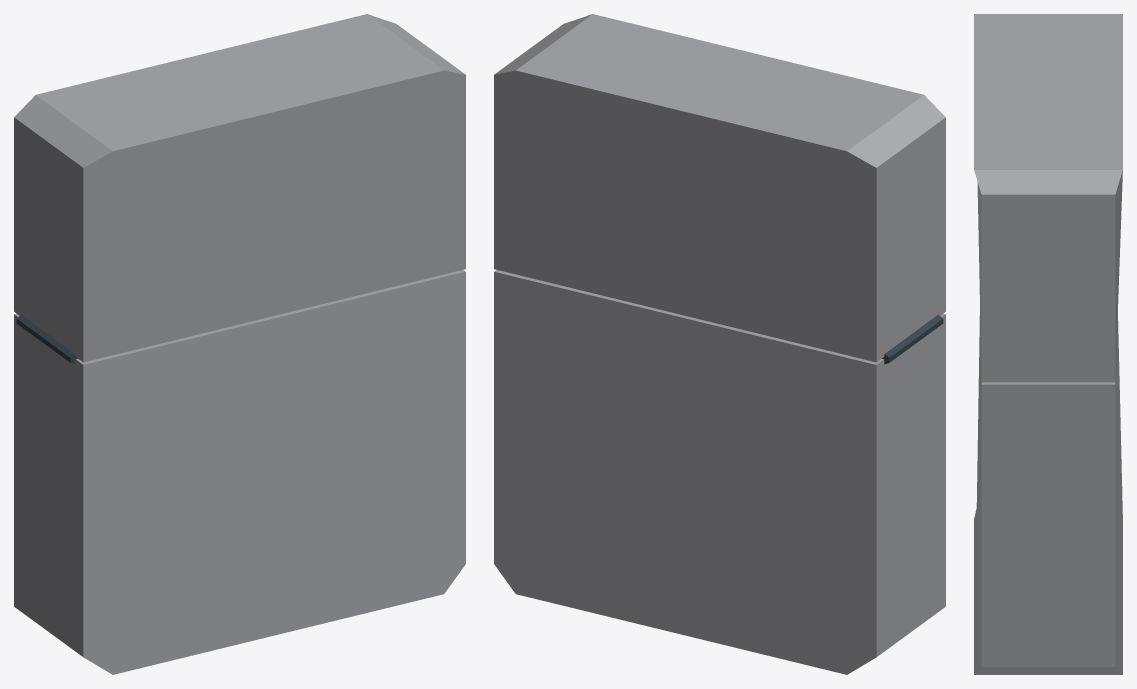
The model's file is Zippo_Closed.fbx.
The picture shows the model from 3 angles, left to right: view 1: azimuth 30°, elevation 25°; view 2: azimuth 150°, elevation 25°; view 3: azimuth 270°, elevation 25°; orthographic projection. The views are drawn at different scales.
Parts seen in each view (by area): view 1: Zippo [Closed]; view 2: Zippo [Closed]; view 3: Zippo [Closed].
Boxes of the visible parts, x1,y1,x2,y2 form: Zippo [Closed]: (14,14,465,674); Zippo [Closed]: (494,14,945,674); Zippo [Closed]: (974,14,1122,674).
Size of the model in its own units: 3.68 by 4.75 by 1.27.
